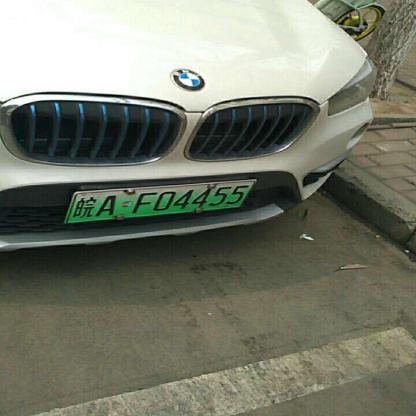lp: (66, 180, 254, 221)
